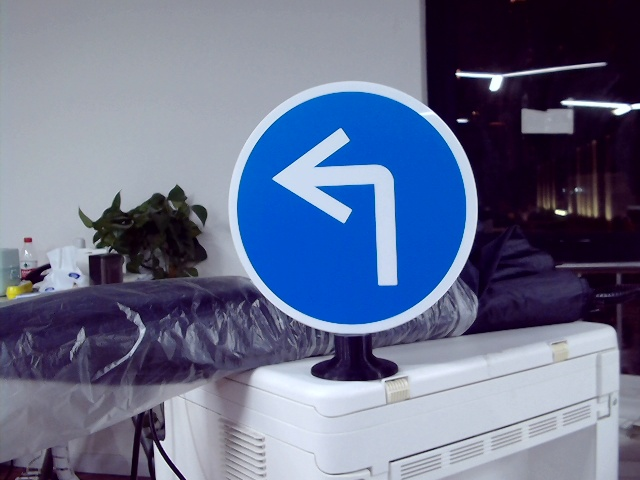turn_left: (274, 127, 414, 289)
